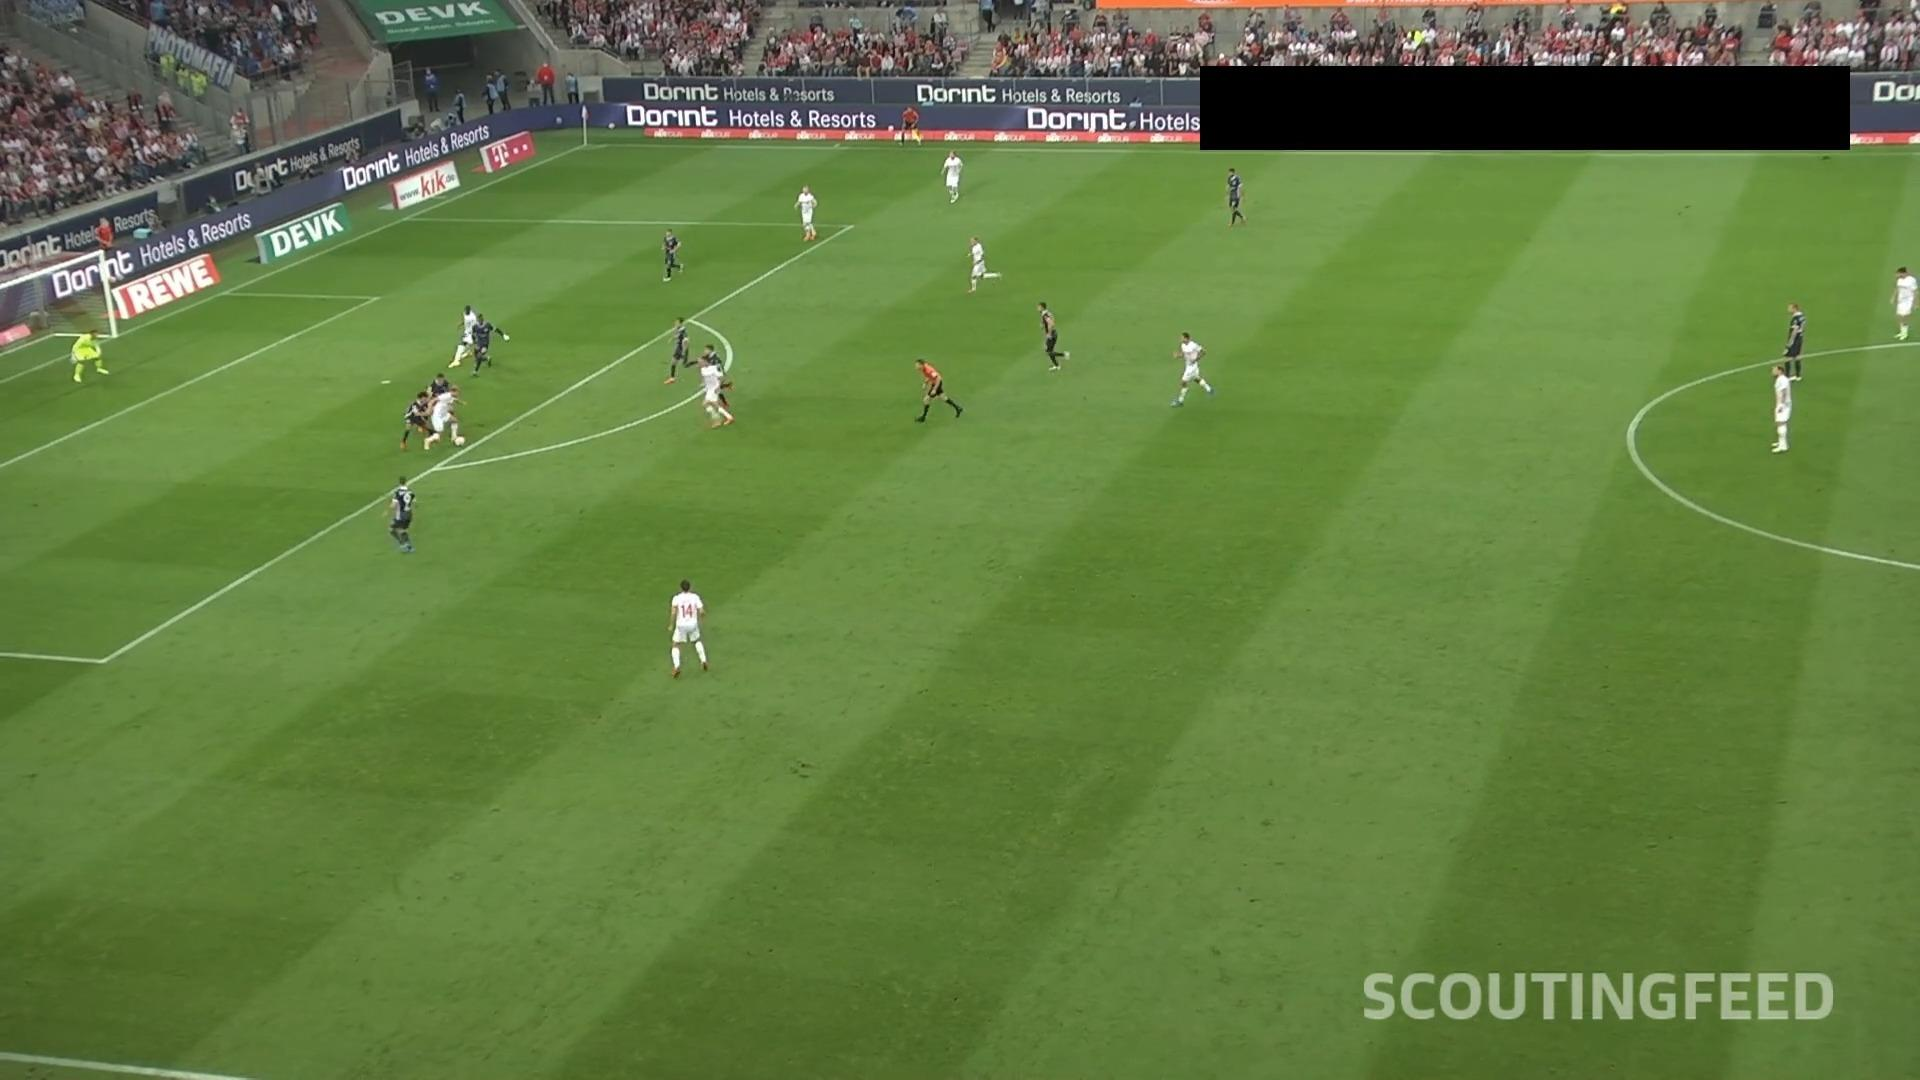ball: (454, 434, 467, 447)
